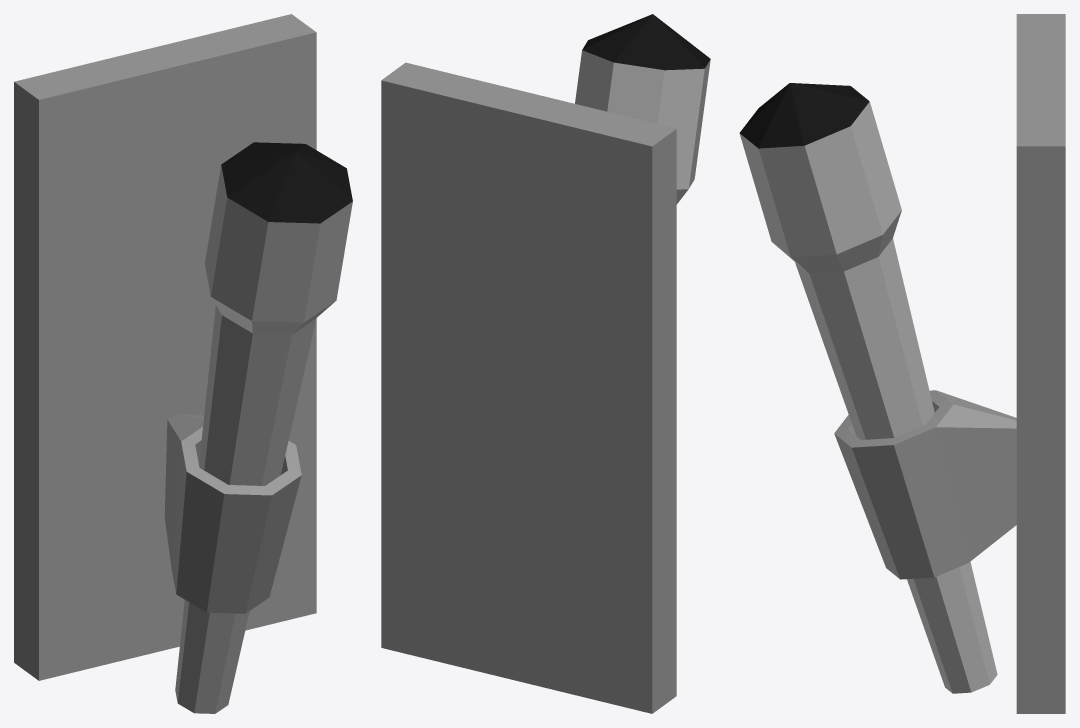
File: torche1.FBX
3 views of the same model, side by side, from view 1: azimuth 30°, elevation 25°; view 2: azimuth 150°, elevation 25°; view 3: azimuth 270°, elevation 25° (orthographic). The views are drawn at different scales.
Visible parts, largest first — view 1: Box011; view 2: Box011; view 3: Box011.
Part boxes in pixels (left/top/right/bottom): Box011: left=14, top=14, right=352, bottom=713; Box011: left=381, top=14, right=710, bottom=713; Box011: left=739, top=14, right=1065, bottom=713.
Size of the model in its own units: 5.24 by 11.2 by 5.45.
Materials: 1 (1 with a texture image).
